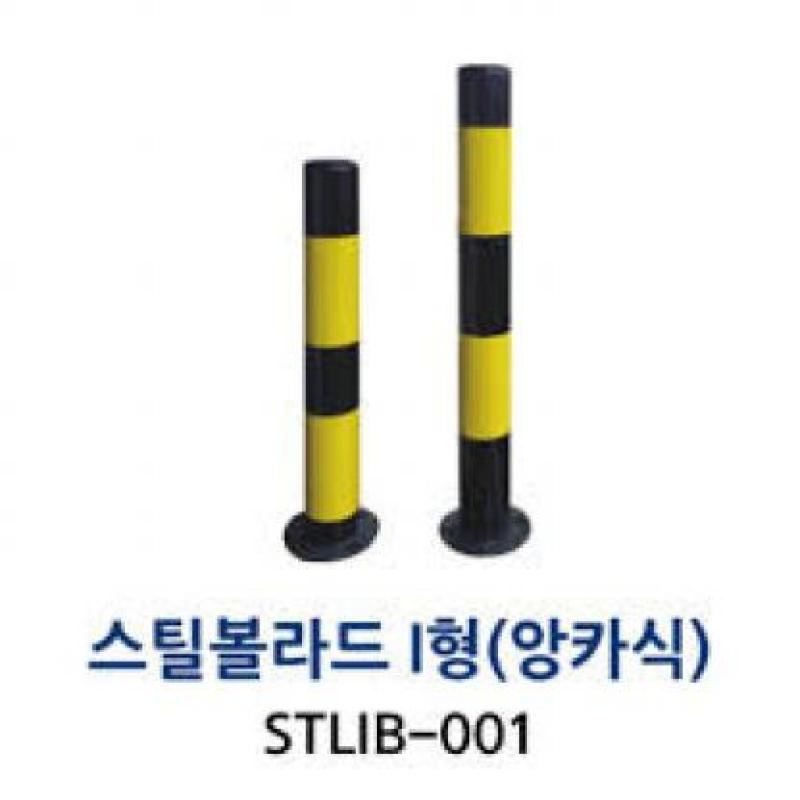bolard: (415, 71, 551, 540), (264, 154, 392, 573)
